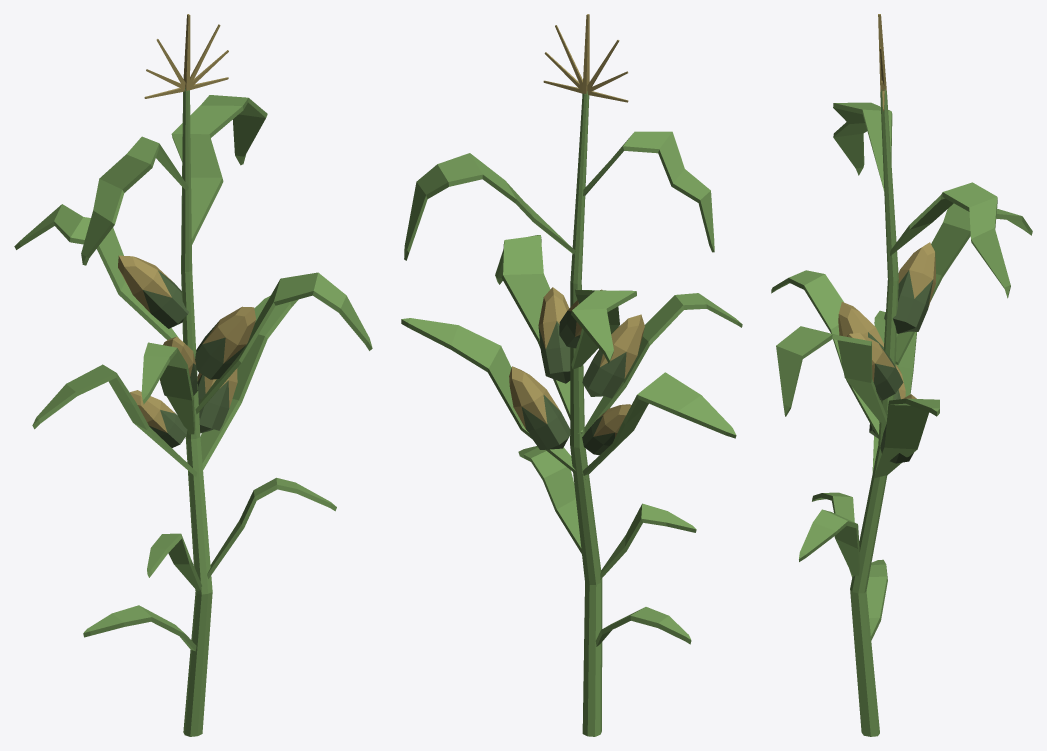
Rendered from corn_4.gltf.
3 views of the same model, side by side, from view 1: azimuth 30°, elevation 25°; view 2: azimuth 150°, elevation 25°; view 3: azimuth 270°, elevation 25° (orthographic).
Visible parts, largest first — view 1: corn_4; view 2: corn_4; view 3: corn_4.
Boxes of the visible parts, box(x1,y1,x2,y2) form: corn_4: box(14, 14, 372, 736); corn_4: box(401, 14, 742, 736); corn_4: box(771, 14, 1032, 736).
Size of the model in its own units: 0.8873 by 1.97 by 0.649.
Materials: 1 (1 with a texture image).
